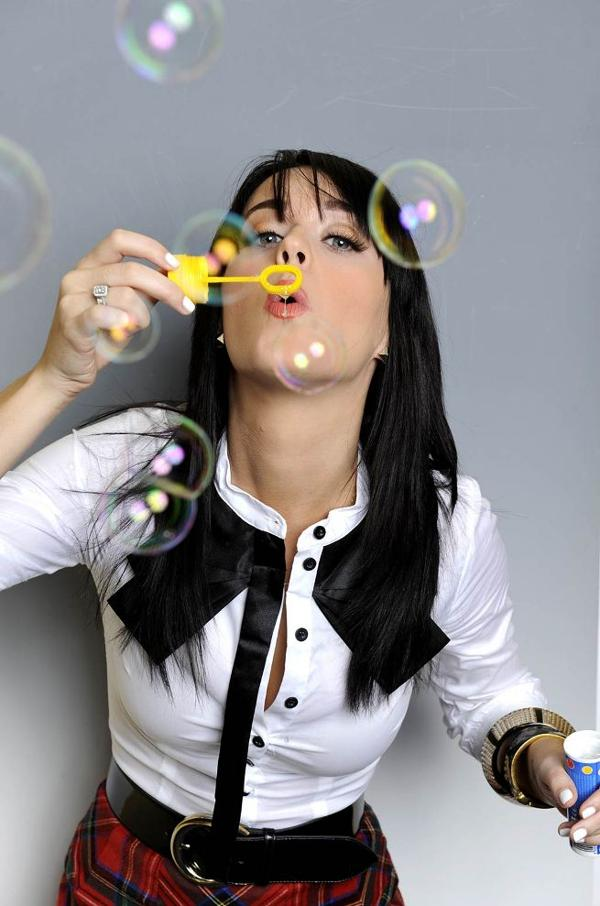person: (3, 147, 598, 906)
